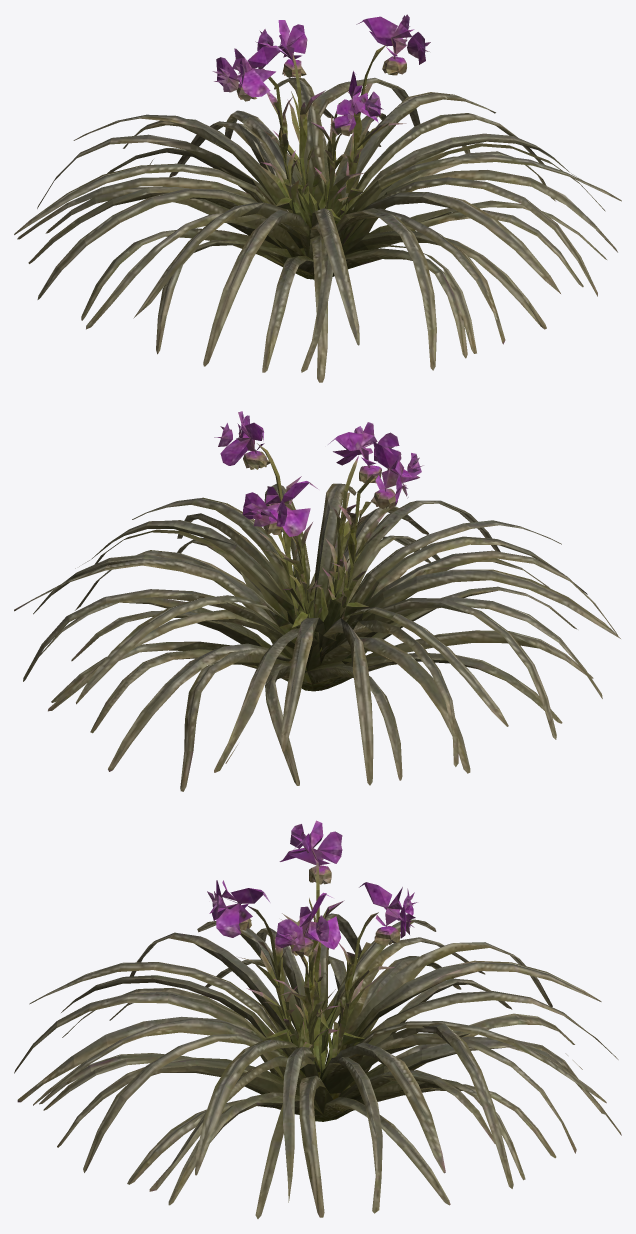
The model's file is dew_cup_2.glb.
3 renders of one model, top to bottom at view 1: azimuth 30°, elevation 25°; view 2: azimuth 150°, elevation 25°; view 3: azimuth 270°, elevation 25°, orthographic.
Parts seen in each view (by area): view 1: tripo_node_7315146f-d491-49a7-b03a-a7cabc33f563; view 2: tripo_node_7315146f-d491-49a7-b03a-a7cabc33f563; view 3: tripo_node_7315146f-d491-49a7-b03a-a7cabc33f563.
Boxes of the visible parts, x1,y1,x2,y2 form: tripo_node_7315146f-d491-49a7-b03a-a7cabc33f563: (14,14,621,382); tripo_node_7315146f-d491-49a7-b03a-a7cabc33f563: (14,411,620,791); tripo_node_7315146f-d491-49a7-b03a-a7cabc33f563: (14,820,621,1218).
Size of the model in its own units: 0.998 by 0.4629 by 0.998.
1 material, 1 textured.
